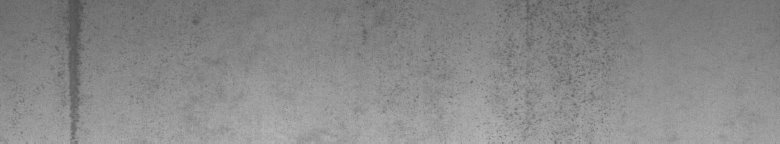hd: (52, 4, 87, 136)
